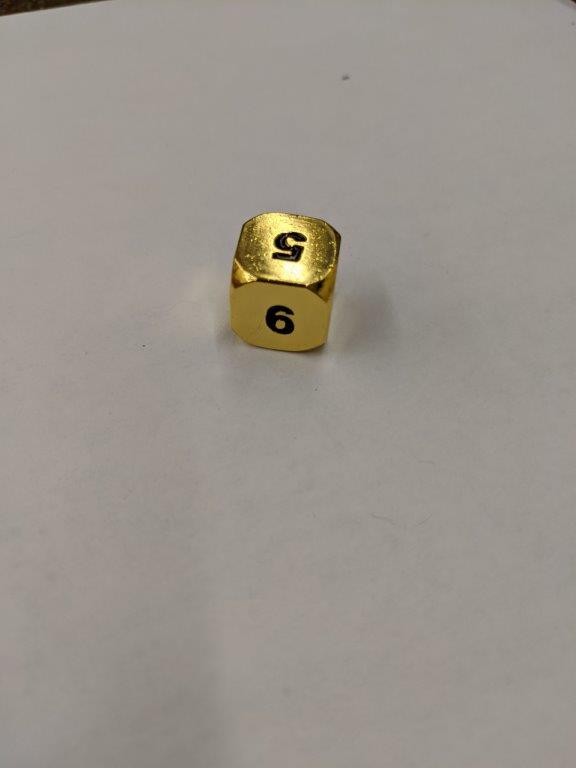d6-5: (229, 207, 342, 358)
